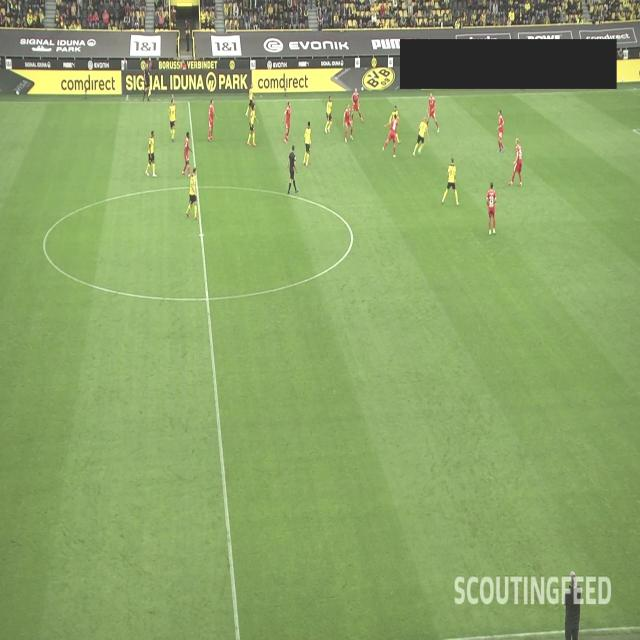ball: (361, 85, 364, 91)
player: (440, 157, 460, 207), (382, 112, 398, 158), (508, 138, 523, 186), (412, 116, 430, 156), (144, 130, 158, 178), (186, 167, 198, 220), (486, 181, 497, 235), (425, 92, 439, 133), (244, 81, 258, 121), (246, 102, 258, 146), (350, 87, 364, 123), (388, 106, 401, 144), (302, 120, 312, 168), (342, 103, 353, 143), (496, 109, 506, 153), (182, 131, 191, 177), (208, 98, 217, 142), (168, 96, 176, 142), (283, 101, 291, 143), (325, 96, 333, 134)
referee: (286, 144, 298, 195), (142, 62, 151, 102)
